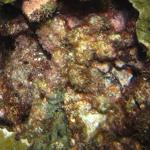dead: (1, 29, 147, 147)
